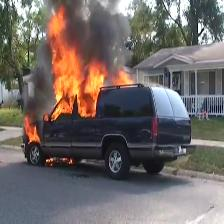fire: (50, 49, 103, 113)
smoke: (70, 7, 126, 46), (32, 63, 48, 116)
